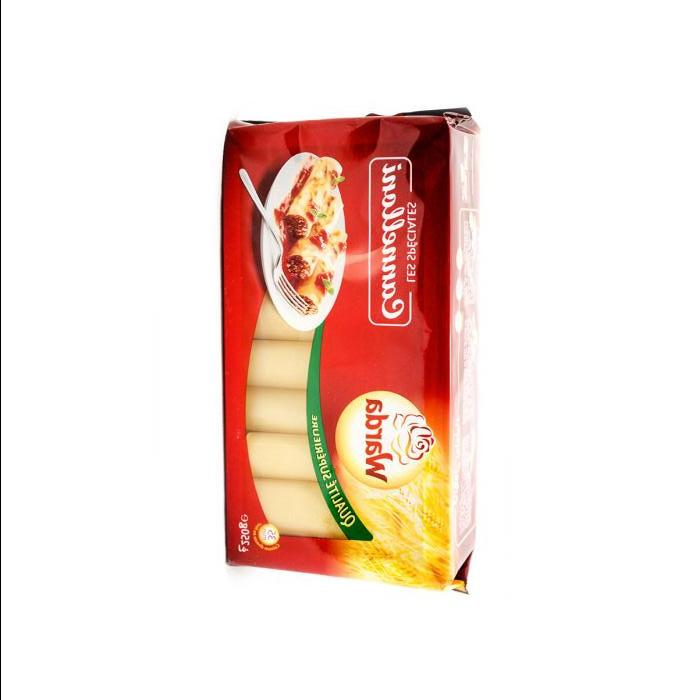Cannelloni: (226, 121, 477, 590)
